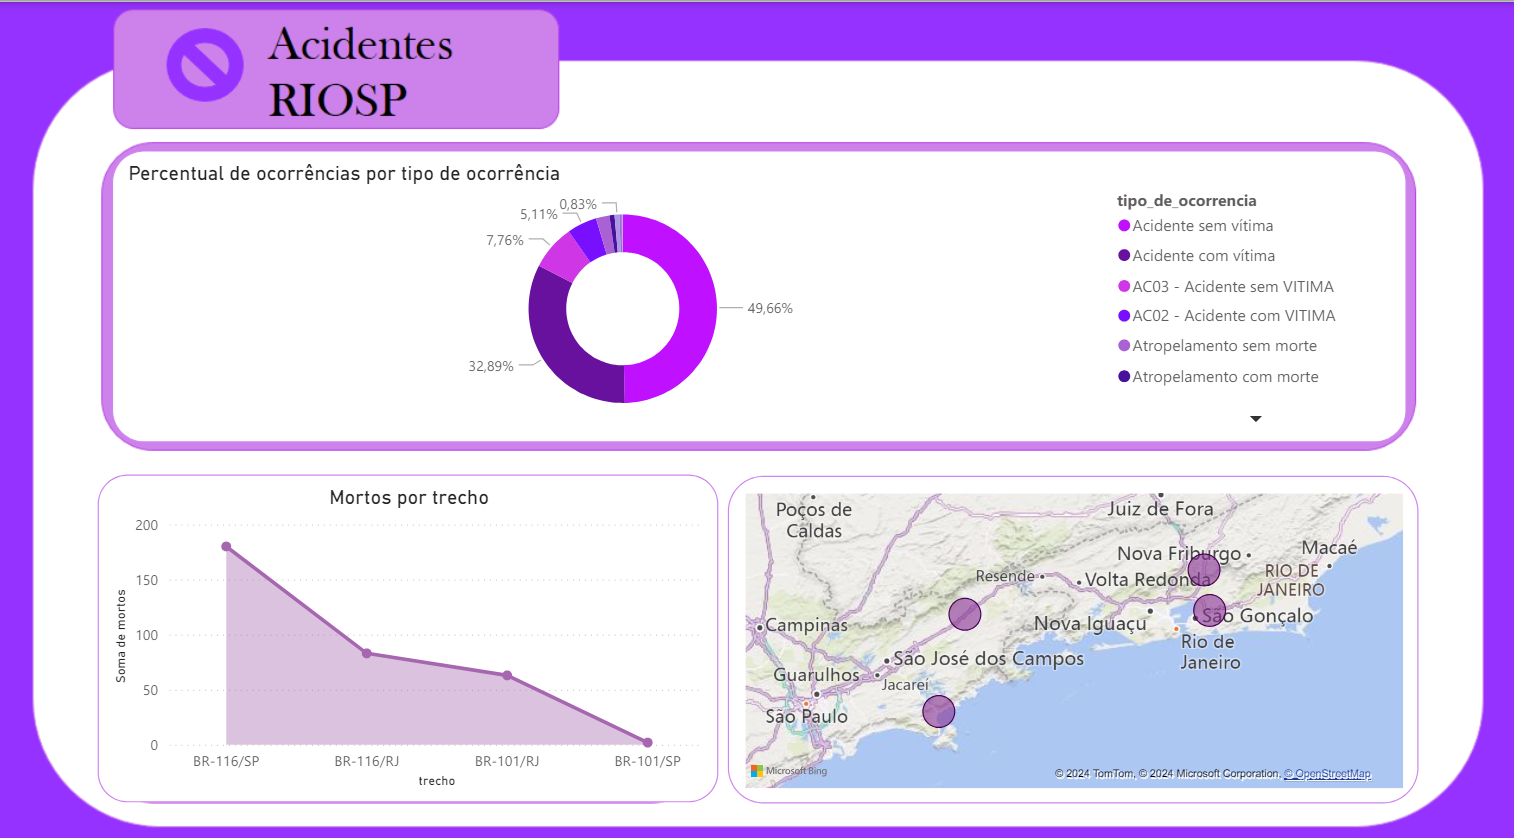

What the dashboard file says about the page in this screenshot:
{"tool":"powerbi","page":{"name":"Dashboard RIOSP","canvas":[1280,720],"ordinal":0},"visuals":[{"type":"map","fields":{"Category":["demostrativo_acidentes_riosp.trecho"]},"box":[614.8,399.3,581.8,275.8],"z":0},{"type":"areaChart","title":"Mortos por trecho","fields":{"Category":["demostrativo_acidentes_riosp.trecho"],"Y":["Sum(demostrativo_acidentes_riosp.mortos)"]},"box":[83.7,397.9,522.8,275.8],"z":1000},{"type":"donutChart","title":"Percentual de ocorrências por tipo de ocorrência","fields":{"Category":["demostrativo_acidentes_riosp.tipo_de_ocorrencia"],"Y":["Sum(demostrativo_acidentes_riosp.n_da_ocorrencia)"]},"box":[96.1,124.9,1090.9,245.6],"z":2000}]}

Visuals, with their boxes in screenshot pixels (x1, y1, x2, y2), scaled from the page's 1280x720 canvas onto the 1514x838 screenshot:
map - demostrativo_acidentes_riosp.trecho: 727 465 1415 786
"Mortos por trecho" areaChart: 99 463 717 784
"Percentual de ocorrências por tipo de ocorrência" donutChart: 114 145 1404 431
